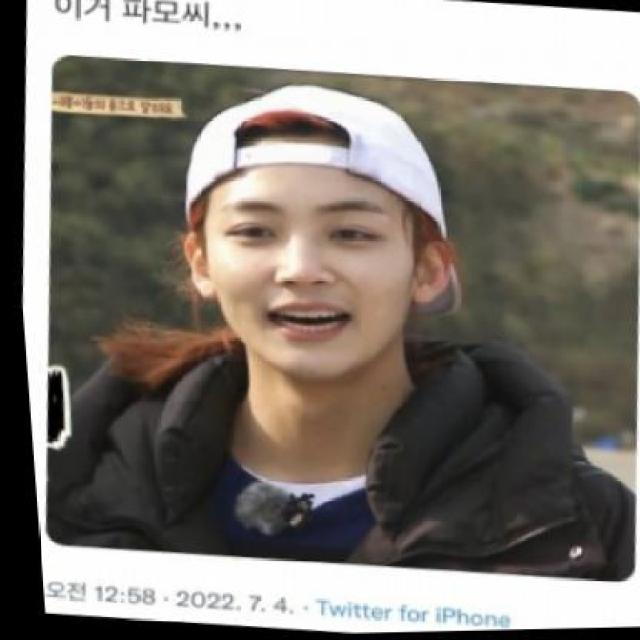hat: (182, 85, 445, 239)
